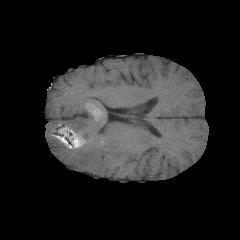glioma: (48, 93, 130, 173)
